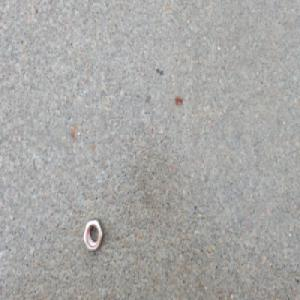Nut: (82, 217, 104, 253)
